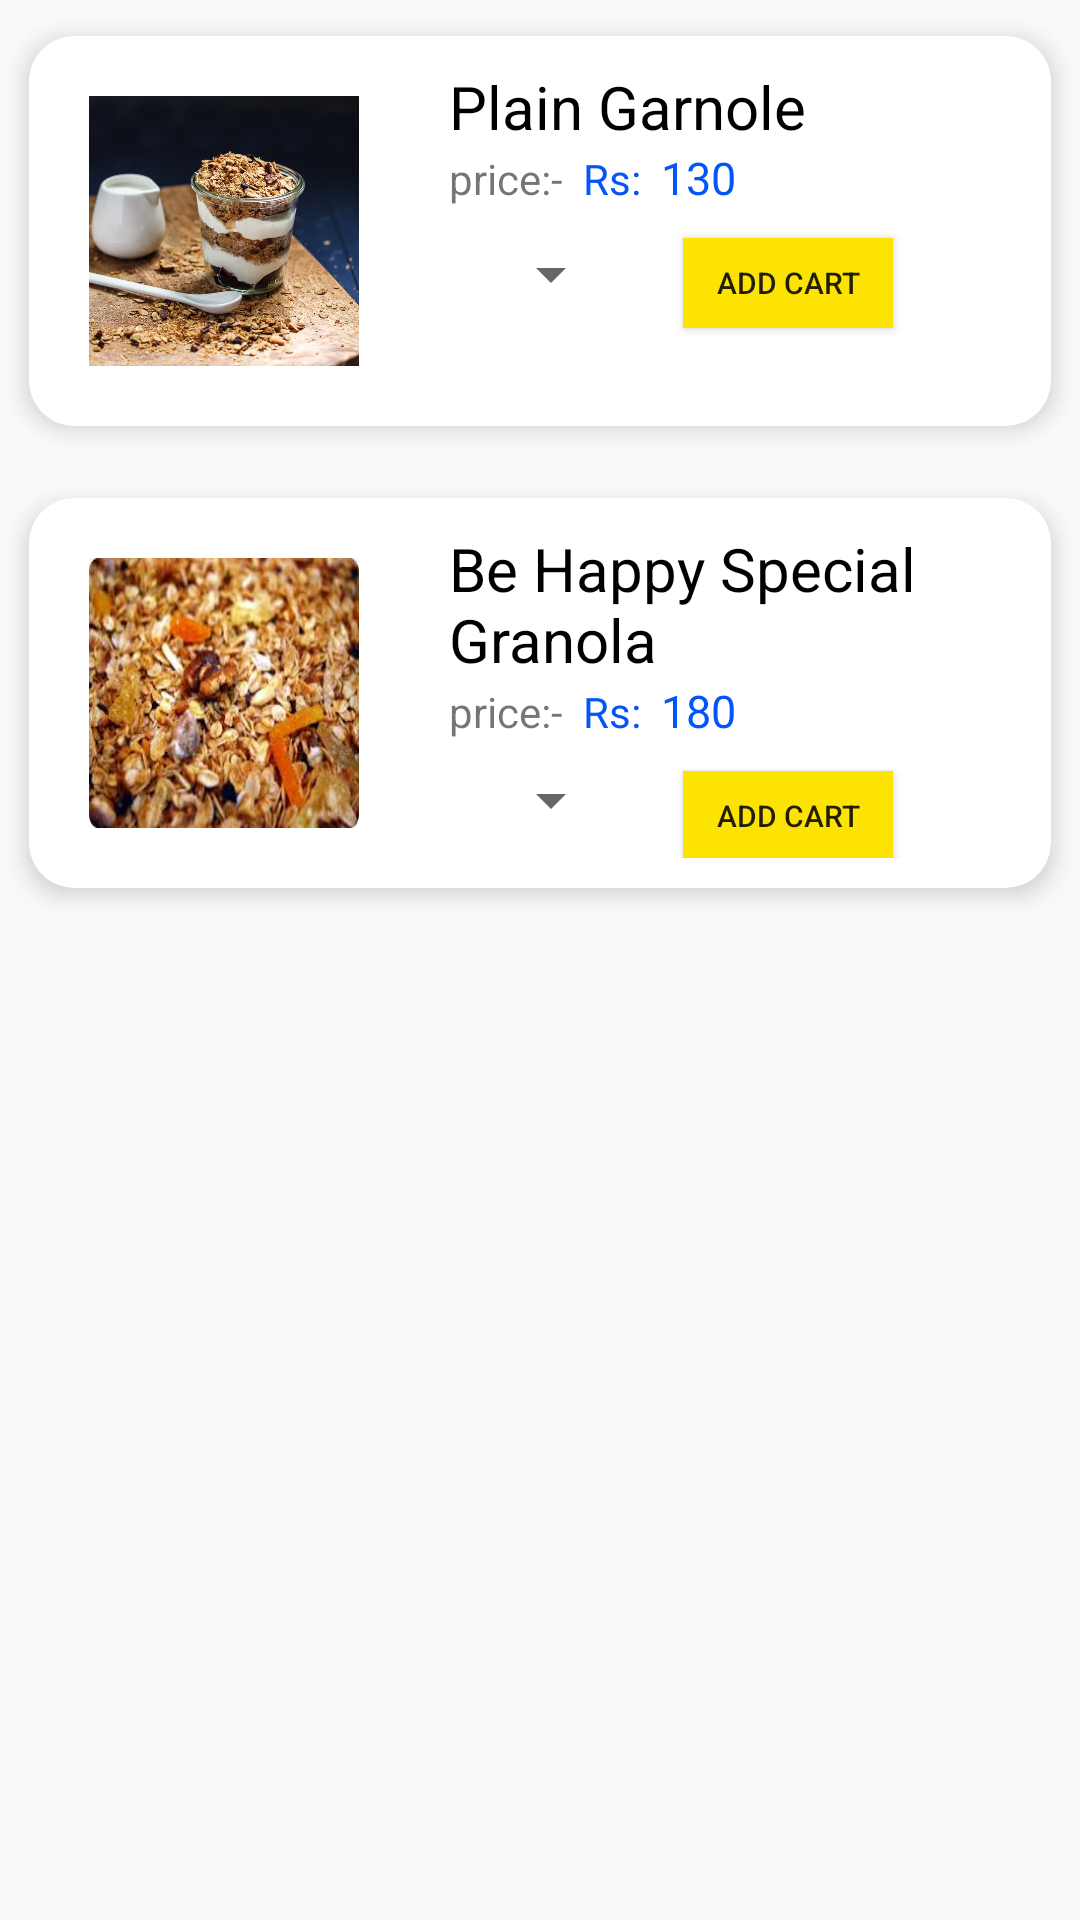

Icons on this 1080px x 1920px Android screen, each with its box as region(x1, y1, x2, y2):
plain granole: region(89, 96, 359, 366)
